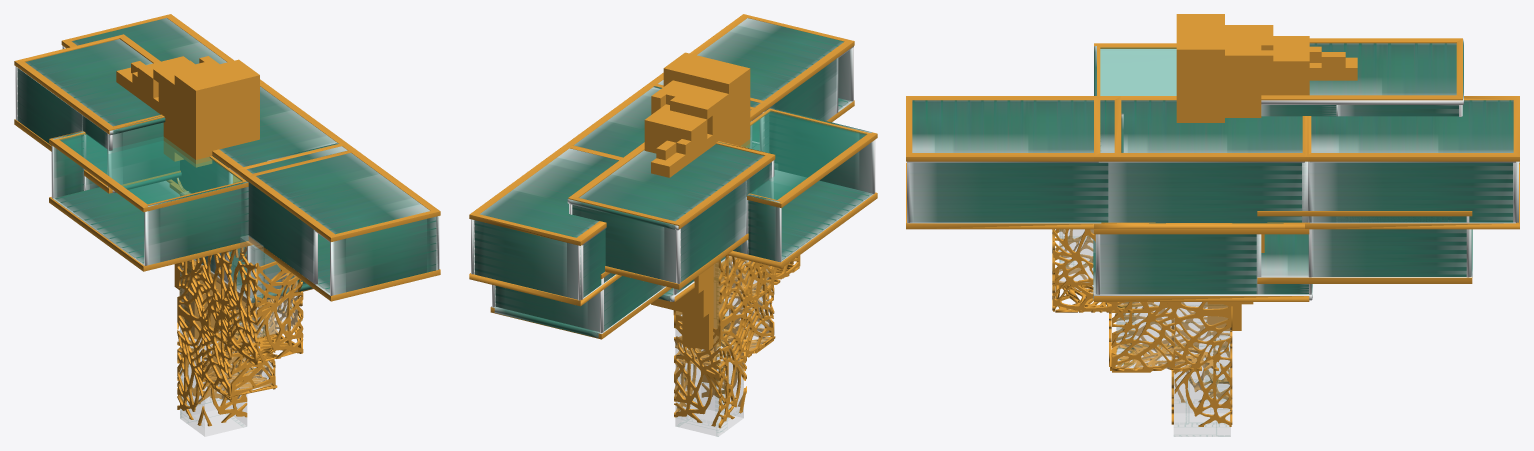
Rendered from labsetup.3.glb.
3 renders of one model, left to right at view 1: azimuth 30°, elevation 25°; view 2: azimuth 150°, elevation 25°; view 3: azimuth 270°, elevation 25°, orthographic. The views are drawn at different scales.
Parts seen in each view (by area): view 1: assorted_display_cubes_1433.005; view 2: assorted_display_cubes_1433.005; view 3: assorted_display_cubes_1433.005.
Part boxes in pixels (x1,y1,x2,y2): assorted_display_cubes_1433.005: (14, 14, 440, 436); assorted_display_cubes_1433.005: (469, 14, 877, 436); assorted_display_cubes_1433.005: (906, 14, 1519, 436).
Bounding box in the file's own units: 1.21 × 1.88 × 2.64.
6 materials, 3 textured.
